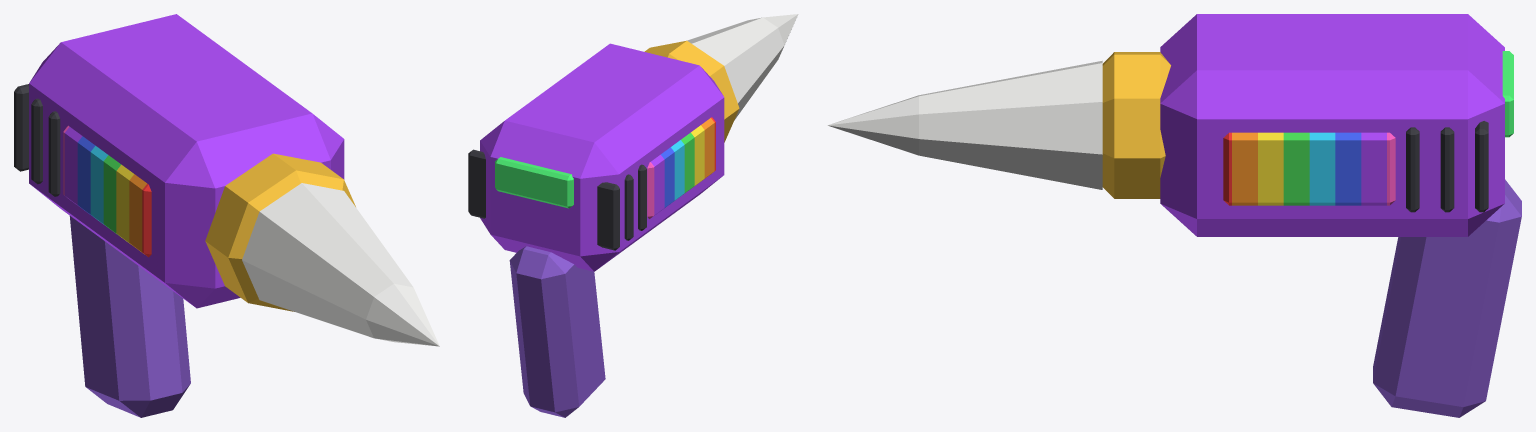
Rendered from RainbowDrill.fbx.
The picture shows the model from 3 angles, left to right: view 1: azimuth 30°, elevation 25°; view 2: azimuth 150°, elevation 25°; view 3: azimuth 270°, elevation 25°; orthographic projection. The views are drawn at different scales.
Parts seen in each view (by area): view 1: RainbowDrill; view 2: RainbowDrill; view 3: RainbowDrill.
Boxes of the visible parts, left/top/right/bottom form: RainbowDrill: left=14, top=14, right=439, bottom=417; RainbowDrill: left=468, top=14, right=798, bottom=417; RainbowDrill: left=827, top=14, right=1521, bottom=417.
Size of the model in its own units: 0.97 by 1.77 by 3.02.
Materials: 1 (1 with a texture image).
